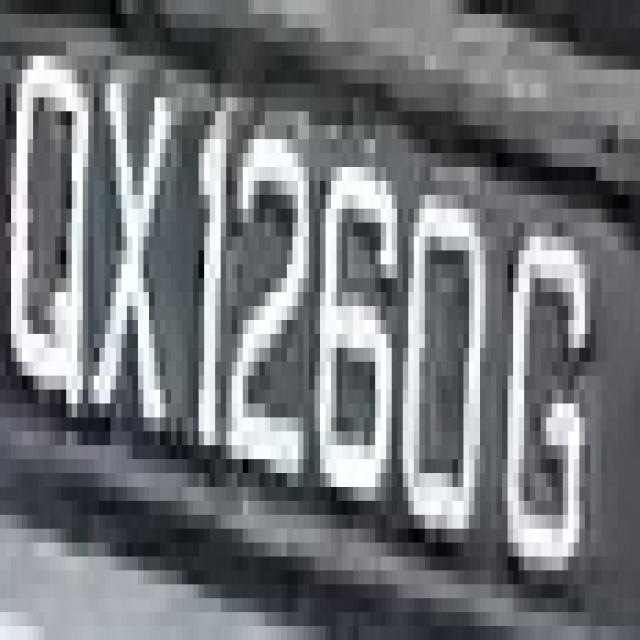0: (386, 181, 497, 556)
1: (182, 56, 237, 501)
2: (210, 111, 298, 473)
6: (287, 125, 392, 529)
G: (507, 195, 596, 598)
Q: (11, 0, 105, 459)
X: (88, 42, 171, 445)
